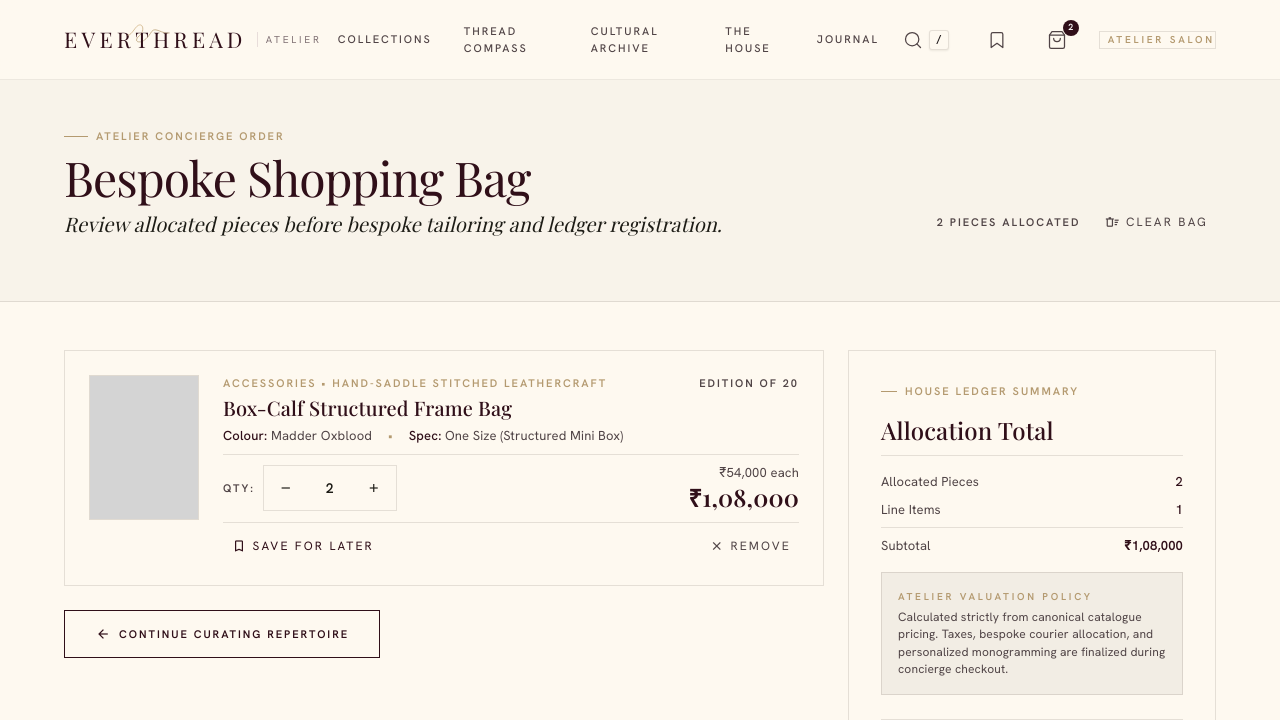
it: EverThread Stage 3.5: Saved Pieces & Shopping Bag Suite › 6. Quantity Updates & Item Removal in Shopping Bag › removes item directly when clicking the line item Remove action
Expected: the element with test id "bag-item-0" is shown, [64,350,824,586]
Click the button with test id "remove-item-0" at (750, 546), box [701,531,799,561]
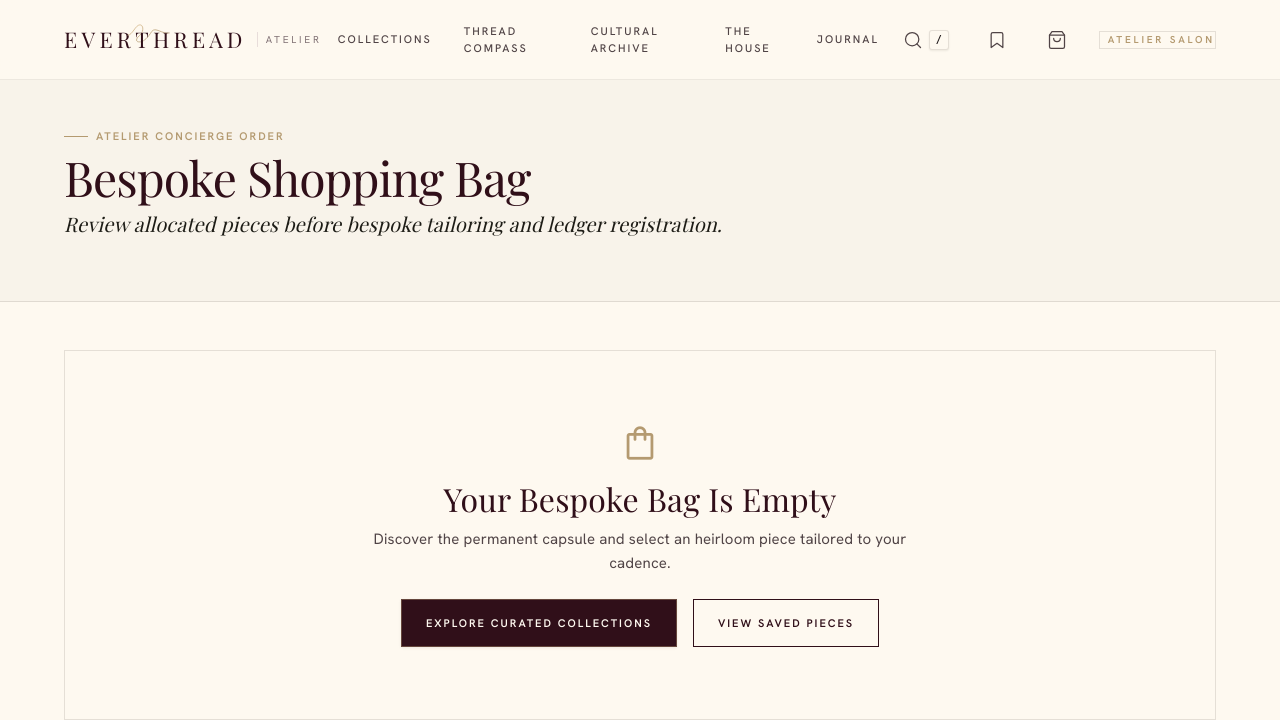
Now the element with test id "bag-item-0" is gone
Now the element with test id "empty-bag-state" is shown, box [64,350,1216,719]
